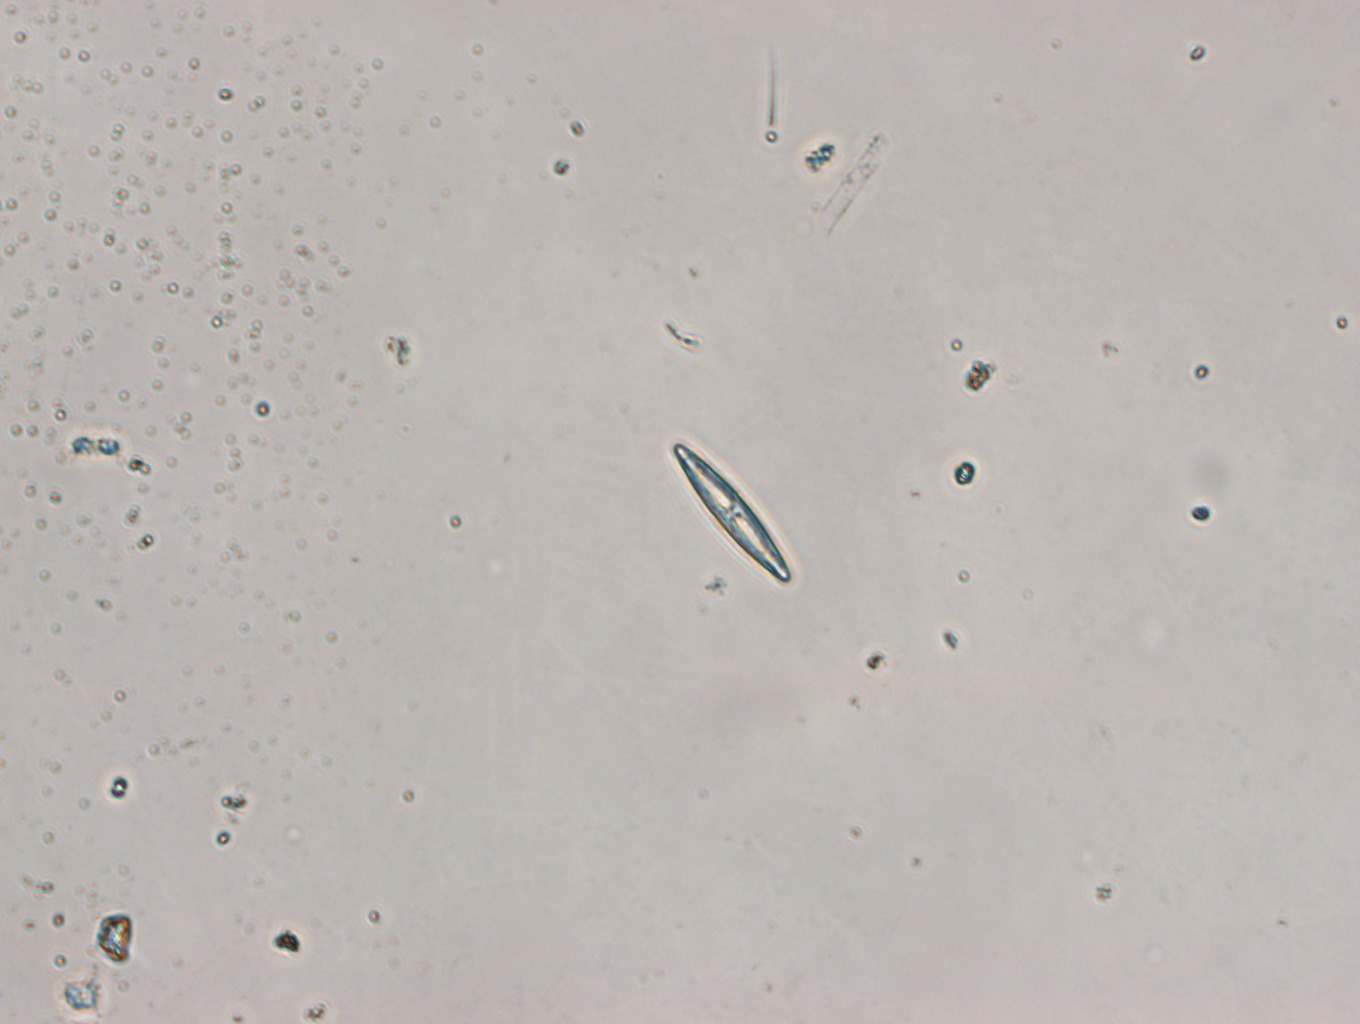navicula: (670, 440, 793, 584)
